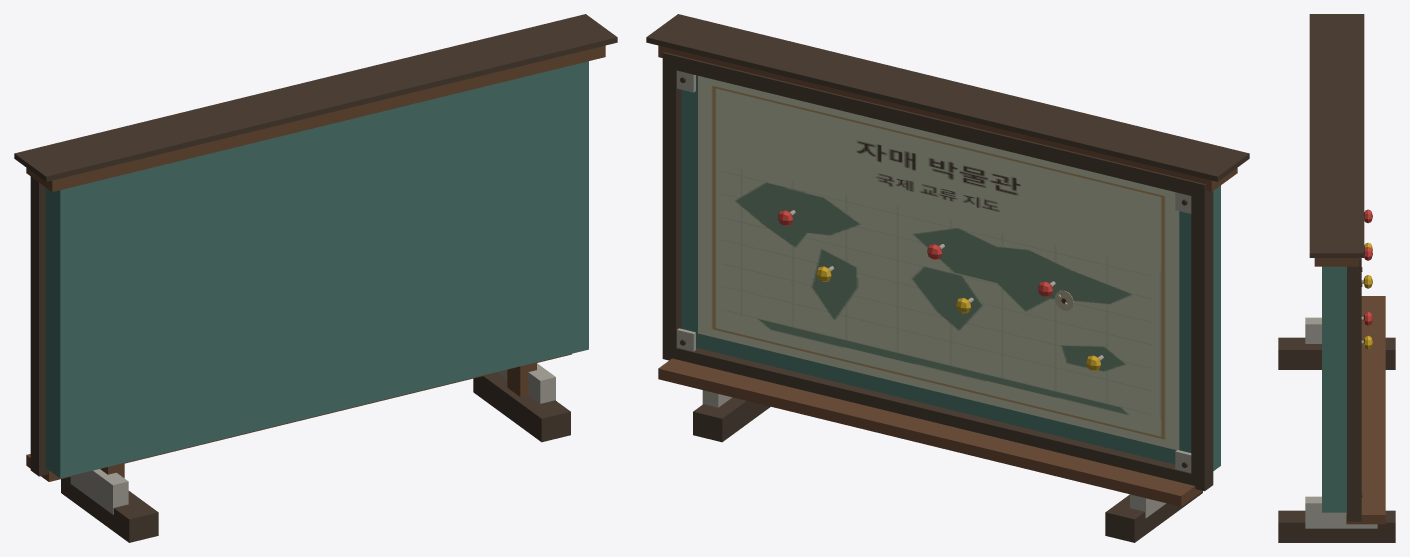
File: N03_Sister_Museum_Map.fbx
The picture shows the model from 3 angles, left to right: view 1: azimuth 30°, elevation 25°; view 2: azimuth 150°, elevation 25°; view 3: azimuth 270°, elevation 25°; orthographic projection. The views are drawn at different scales.
Parts seen in each view (by area): view 1: Structure; view 2: Map, Structure; view 3: Structure.
Part boxes in pixels (bbox=[...]): Structure: bbox=[14, 14, 617, 542]; Map: bbox=[698, 75, 1179, 450]; Structure: bbox=[646, 14, 1249, 542]; Structure: bbox=[1278, 14, 1395, 542].
Bounding box in the file's own units: 5.08 × 3.13 × 1.05.
Materials: 9 (1 with a texture image).
